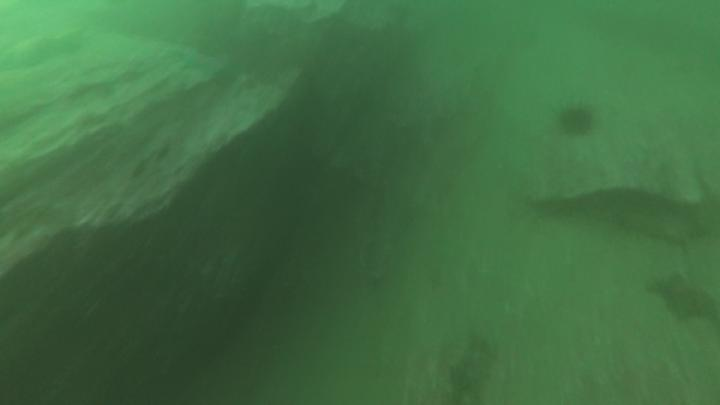echinus: (553, 102, 597, 141)
starfish: (646, 266, 718, 327)
